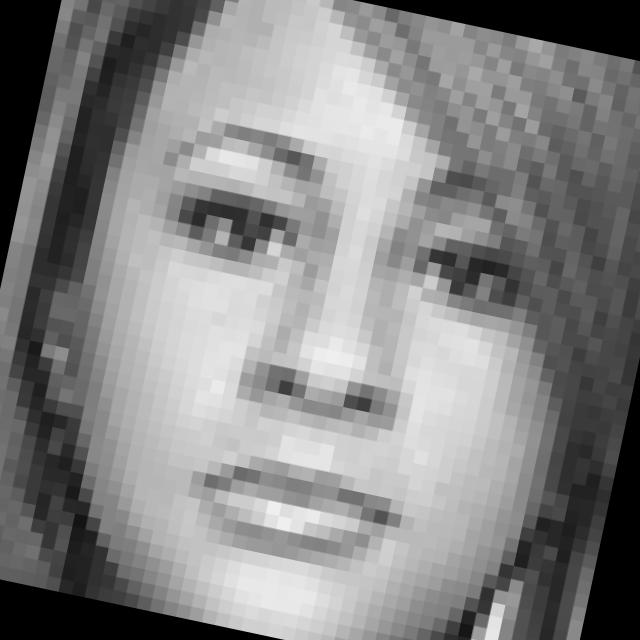neutral: (87, 96, 556, 603)
